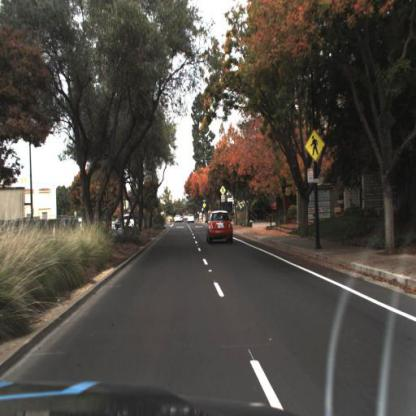car: (206, 207, 234, 243)
